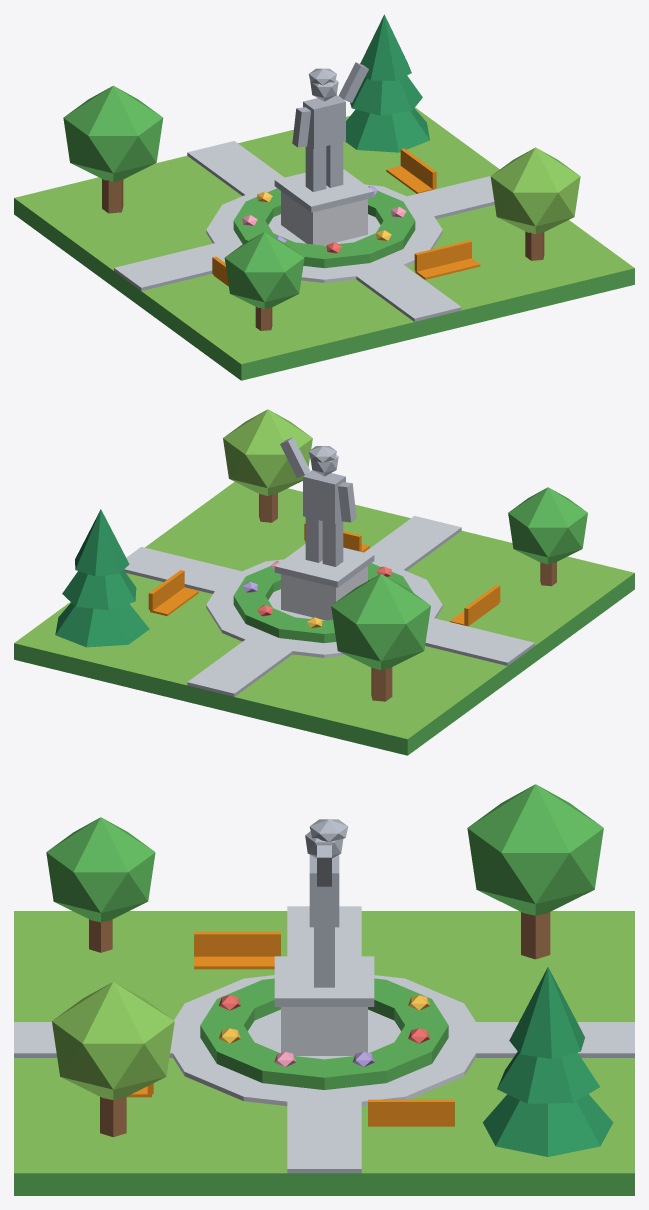
File: park_statue.glb
3 views of the same model, one above another, from view 1: azimuth 30°, elevation 25°; view 2: azimuth 150°, elevation 25°; view 3: azimuth 270°, elevation 25° (orthographic). The views are drawn at different scales.
Visible parts, largest first — view 1: park_statue; view 2: park_statue; view 3: park_statue.
Boxes of the visible parts, left/top/right/bottom form: park_statue: left=14, top=14, right=634, bottom=380; park_statue: left=14, top=409, right=634, bottom=755; park_statue: left=14, top=784, right=634, bottom=1195.
Bounding box in the file's own units: 1 × 0.4358 × 1.
